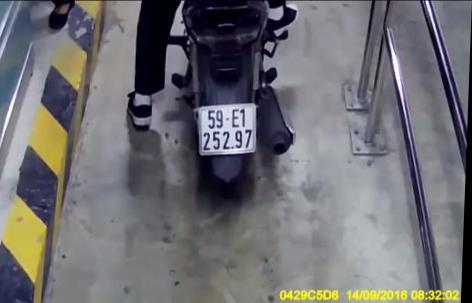LP: (194, 100, 262, 156)
